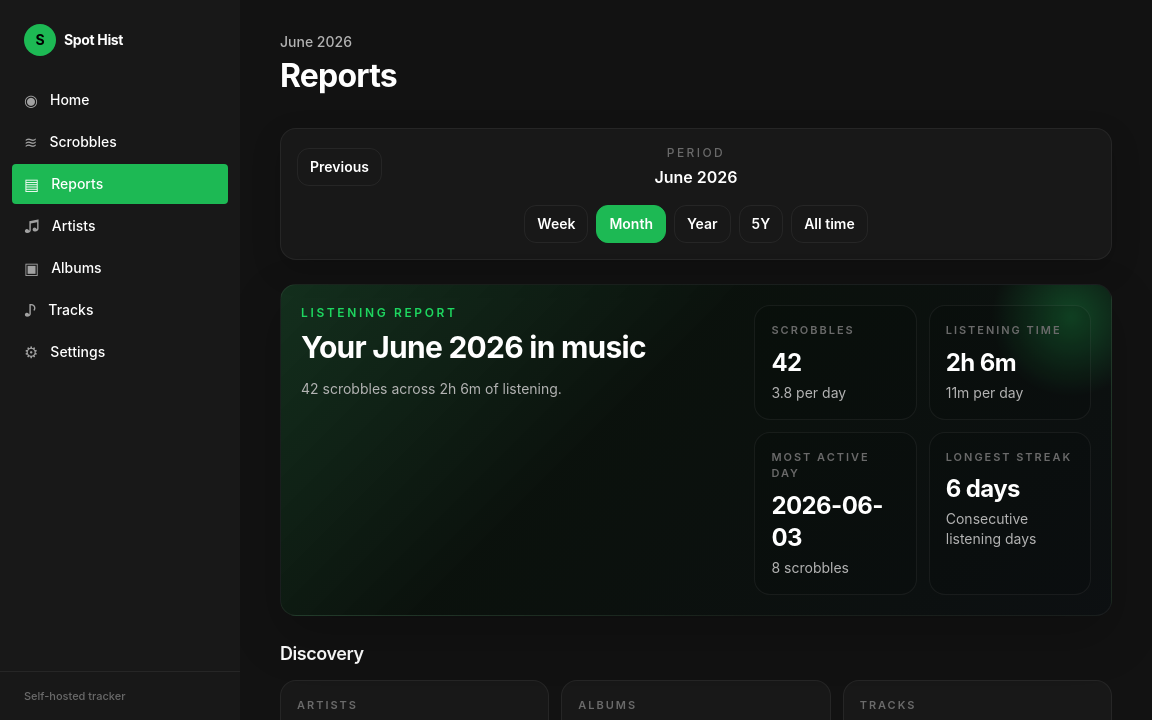
Scenario: reports page › switches timeframe and moves between adjacent periods
Step 1. Click the link "Week" → (556, 224), box top-left (524, 205), bottom-right (588, 243)
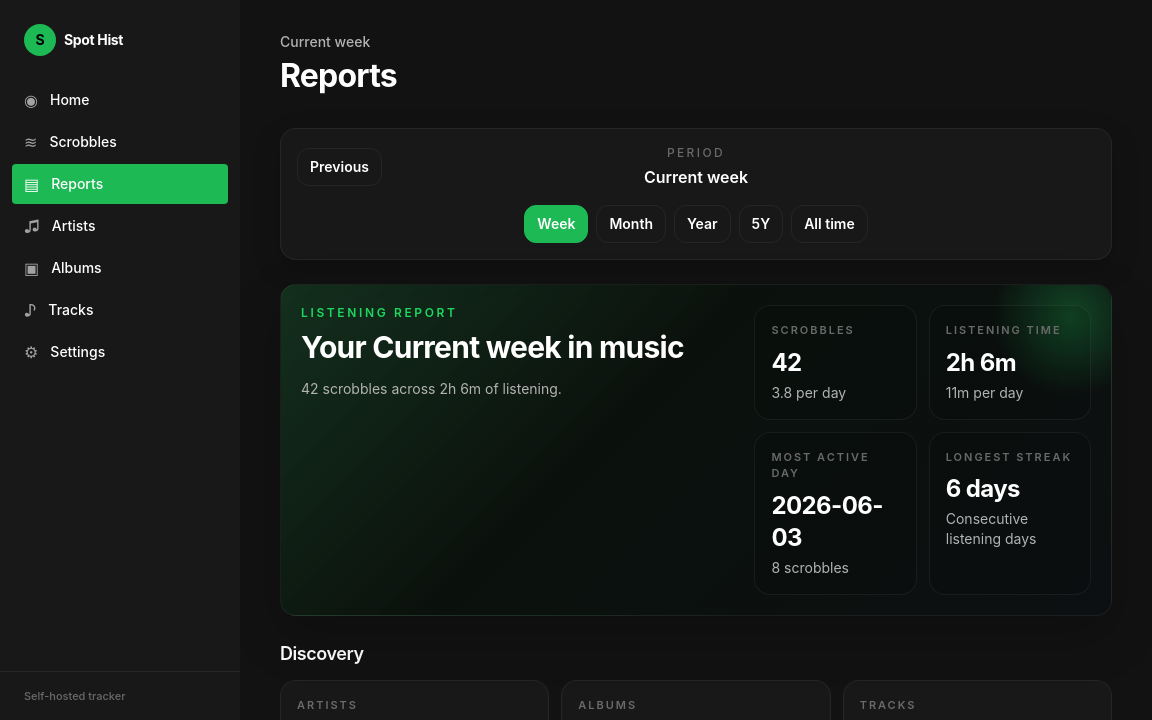
Now the heading "Your Current week in music" is shown, box top-left (301, 329), bottom-right (738, 365)
Step 2. Click the link "Previous" → (340, 167), box top-left (297, 148), bottom-right (382, 186)
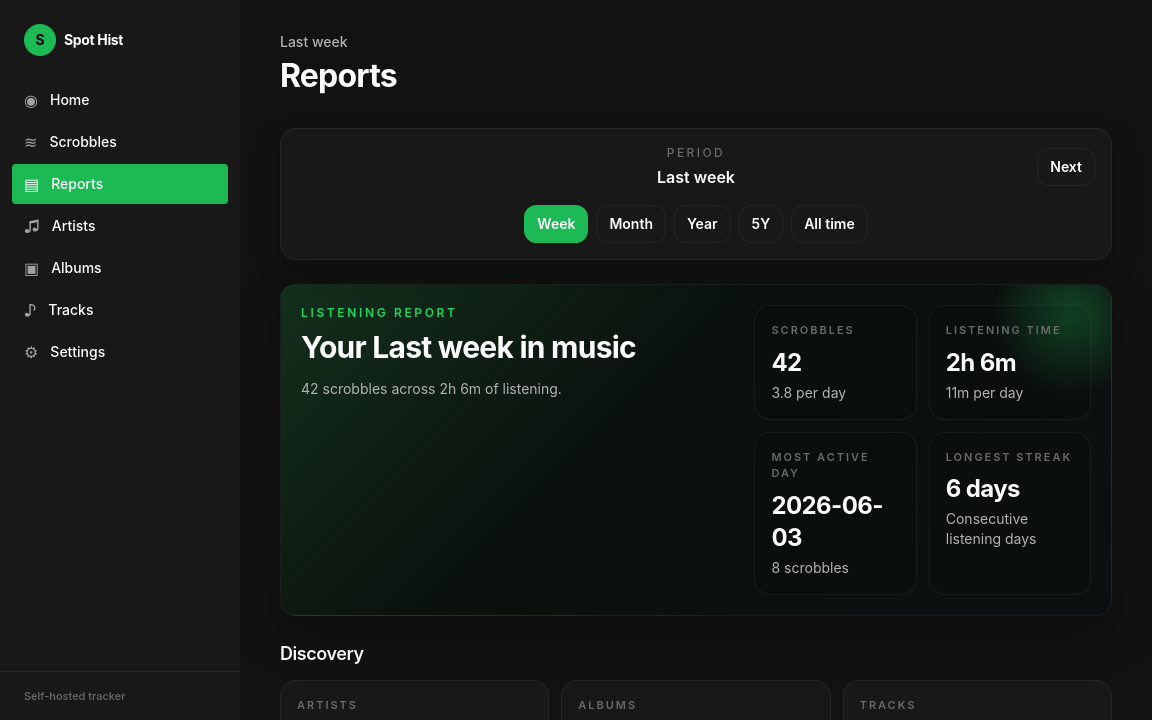
Now the heading "Your Last week in music" is shown, box top-left (301, 329), bottom-right (636, 365)
Step 3. Click the link "5Y" → (761, 224), box top-left (739, 205), bottom-right (783, 243)
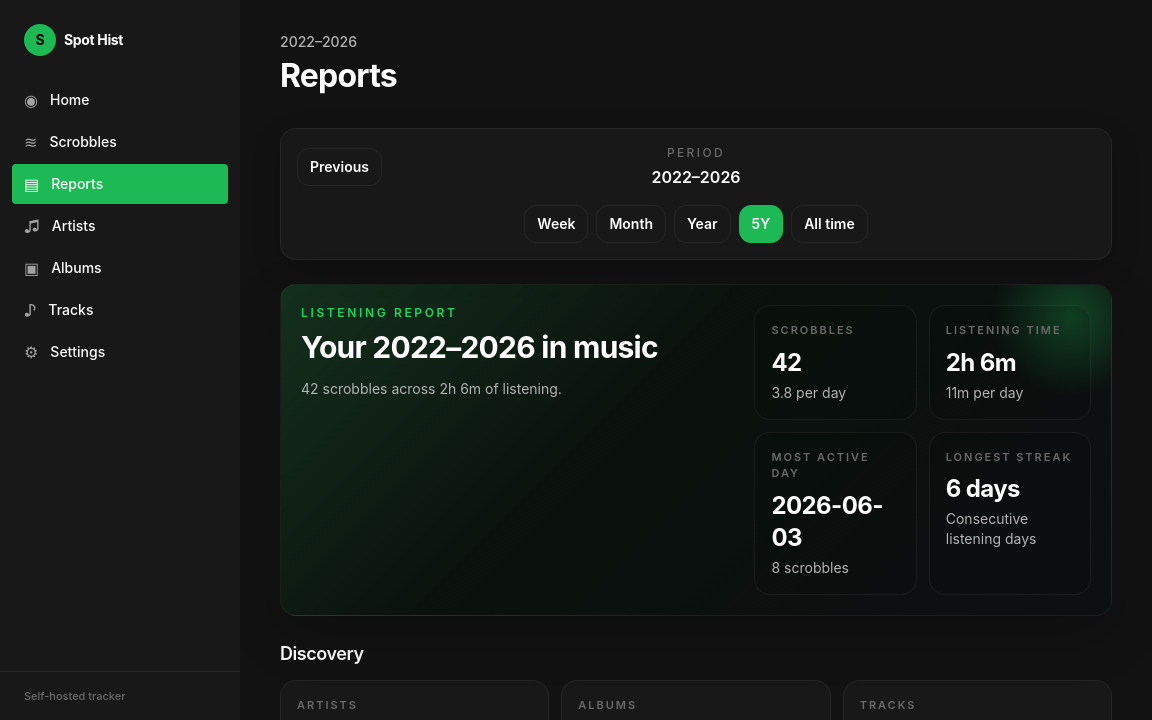
Now the heading "Your 2022–2026 in music" is shown, box top-left (301, 329), bottom-right (658, 365)
Now the link "Previous" is shown, box top-left (297, 148), bottom-right (382, 186)
Now the link "Next" is gone
